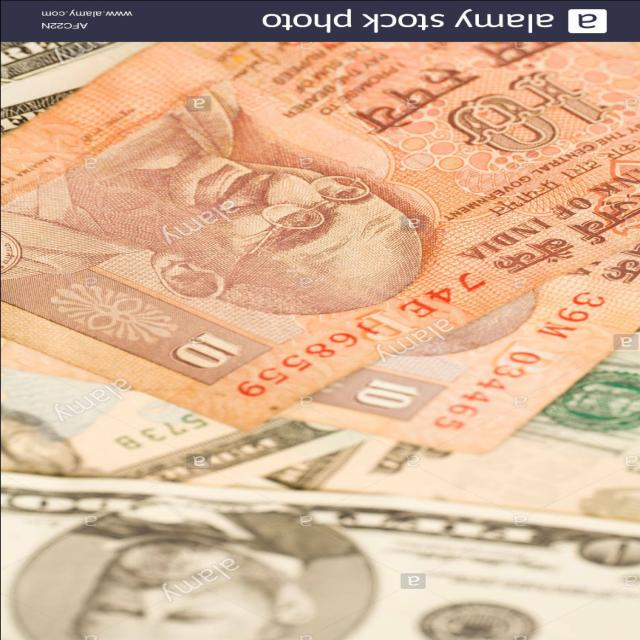10IndianRupees: (0, 38, 640, 409)
